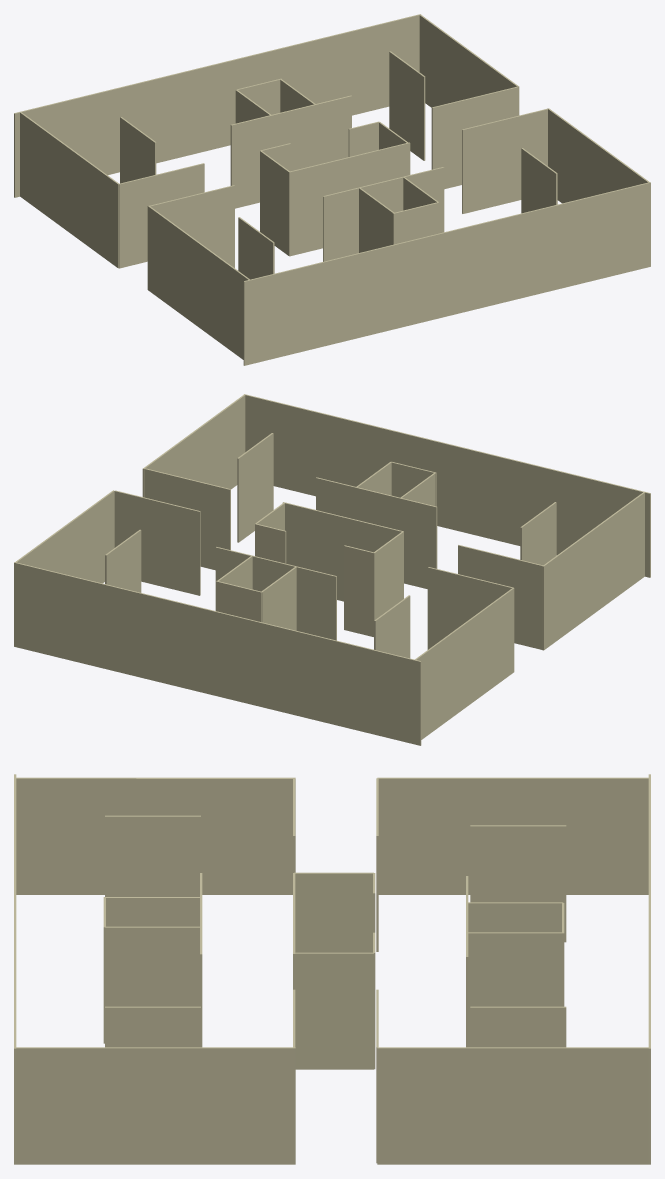
File: MainMaze.fbx
3 renders of one model, top to bottom at view 1: azimuth 30°, elevation 25°; view 2: azimuth 150°, elevation 25°; view 3: azimuth 270°, elevation 25°, orthographic. The views are drawn at different scales.
Visible parts, largest first — view 1: Wall_400x200_3, Wall_400x201, Wall_400x202, Wall_400x204, Wall_400x223, Wall_400x207, Wall_400x210, Wall_400x208, Wall_400x206, Wall_400x215, Wall_400x205, Wall_400x209 (+13 smaller); view 2: Wall_400x201, Wall_400x200_3, Wall_400x204, Wall_400x202, Wall_400x209, Wall_400x215, Wall_400x210, Wall_400x208, Wall_400x206, Wall_400x223, Wall_400x227_55, Wall_400x207 (+14 smaller); view 3: Wall_400x208, Wall_400x206, Wall_400x202, Wall_400x204, Wall_400x213, Wall_400x219, Wall_400x217, Wall_400x222_32, Wall_400x224, Wall_400x214, Wall_400x221, Wall_400x220 (+4 smaller).
Part boxes in pixels (<box>): Wall_400x200_3: <box>243,182,650,365</box>; Wall_400x201: <box>14,14,420,197</box>; Wall_400x202: <box>20,112,118,268</box>; Wall_400x204: <box>147,206,250,359</box>; Wall_400x223: <box>230,95,351,208</box>; Wall_400x207: <box>462,109,547,213</box>; Wall_400x210: <box>289,142,410,256</box>; Wall_400x208: <box>547,108,649,203</box>; Wall_400x206: <box>419,15,519,115</box>; Wall_400x215: <box>323,167,444,261</box>; Wall_400x205: <box>119,163,204,268</box>; Wall_400x209: <box>431,86,517,189</box>; Wall_400x201: <box>14,562,421,745</box>; Wall_400x200_3: <box>244,394,650,577</box>; Wall_400x204: <box>542,492,644,650</box>; Wall_400x202: <box>415,588,514,739</box>; Wall_400x209: <box>114,490,200,595</box>; Wall_400x215: <box>316,477,437,588</box>; Wall_400x210: <box>283,502,403,601</box>; Wall_400x208: <box>142,395,245,497</box>; Wall_400x206: <box>15,490,114,583</box>; Wall_400x223: <box>215,547,336,640</box>; Wall_400x227_55: <box>458,545,542,649</box>; Wall_400x207: <box>144,468,230,570</box>; Wall_400x208: <box>16,1047,295,1164</box>; Wall_400x206: <box>377,1047,648,1164</box>; Wall_400x202: <box>377,777,648,894</box>; Wall_400x204: <box>16,777,295,894</box>; Wall_400x213: <box>295,952,373,1069</box>; Wall_400x219: <box>105,815,200,896</box>; Wall_400x217: <box>105,926,200,1006</box>; Wall_400x222_32: <box>470,825,566,942</box>; Wall_400x224: <box>468,932,563,1047</box>; Wall_400x214: <box>294,872,373,952</box>; Wall_400x221: <box>470,1006,566,1047</box>; Wall_400x220: <box>105,1006,200,1047</box>.
Size of the model in its own units: 1012 by 994 by 200.
